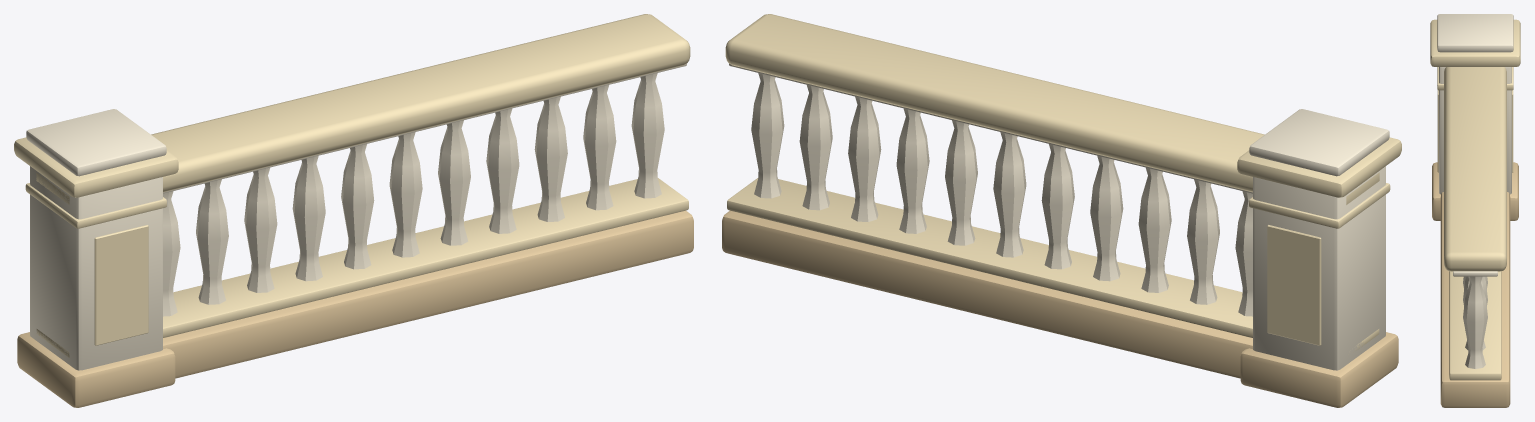
Rendered from balaustrada_3m.glb.
The picture shows the model from 3 angles, left to right: view 1: azimuth 30°, elevation 25°; view 2: azimuth 150°, elevation 25°; view 3: azimuth 270°, elevation 25°; orthographic projection. The views are drawn at different scales.
Visible parts, largest first — view 1: balaustrada_3m; view 2: balaustrada_3m; view 3: balaustrada_3m.
Part boxes in pixels (x1=…): balaustrada_3m: x1=14, y1=14, x2=693, y2=407; balaustrada_3m: x1=722, y1=14, x2=1401, y2=407; balaustrada_3m: x1=1430, y1=14, x2=1520, y2=407.
Size of the model in its own units: 3.05 by 1.11 by 0.52.
Materials: 1 (1 with a texture image).
